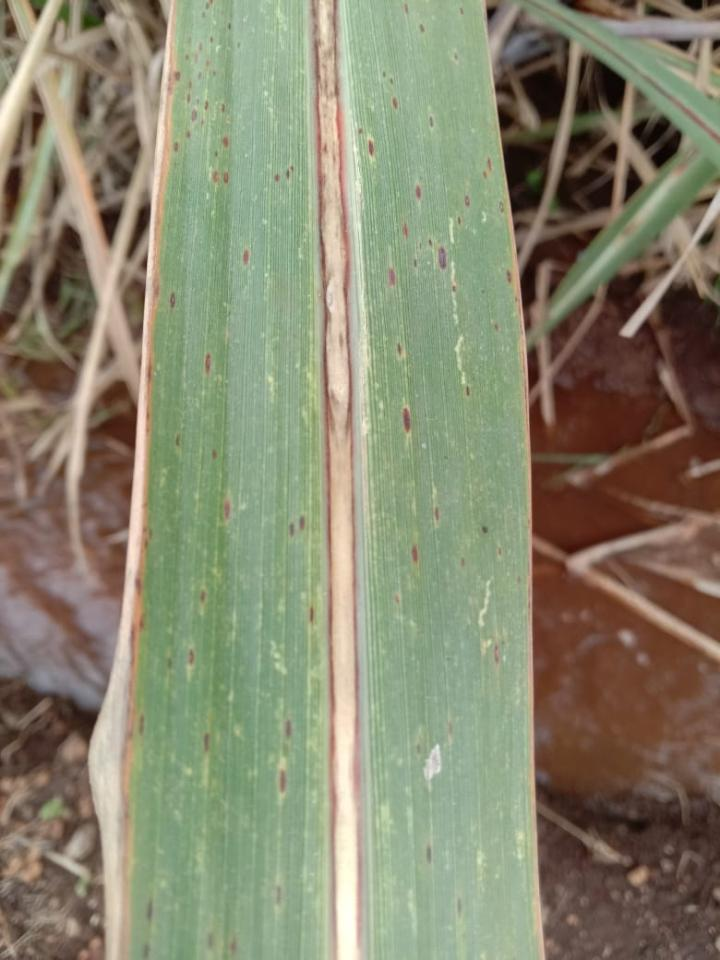RedRot: (305, 0, 366, 959)
Rust: (353, 65, 523, 410), (168, 0, 251, 192), (123, 529, 153, 753), (383, 1, 464, 73), (274, 712, 303, 801), (149, 264, 185, 330), (160, 640, 207, 679), (200, 921, 248, 959), (139, 892, 165, 959), (396, 388, 422, 444), (268, 155, 306, 192), (190, 341, 221, 381), (216, 485, 238, 533), (422, 496, 453, 528), (194, 724, 219, 762), (419, 830, 441, 873), (407, 531, 426, 579), (194, 574, 216, 615), (281, 510, 307, 543), (387, 328, 412, 362), (235, 239, 257, 275), (270, 876, 291, 910), (206, 437, 227, 469), (454, 888, 470, 928), (454, 2, 472, 21)
